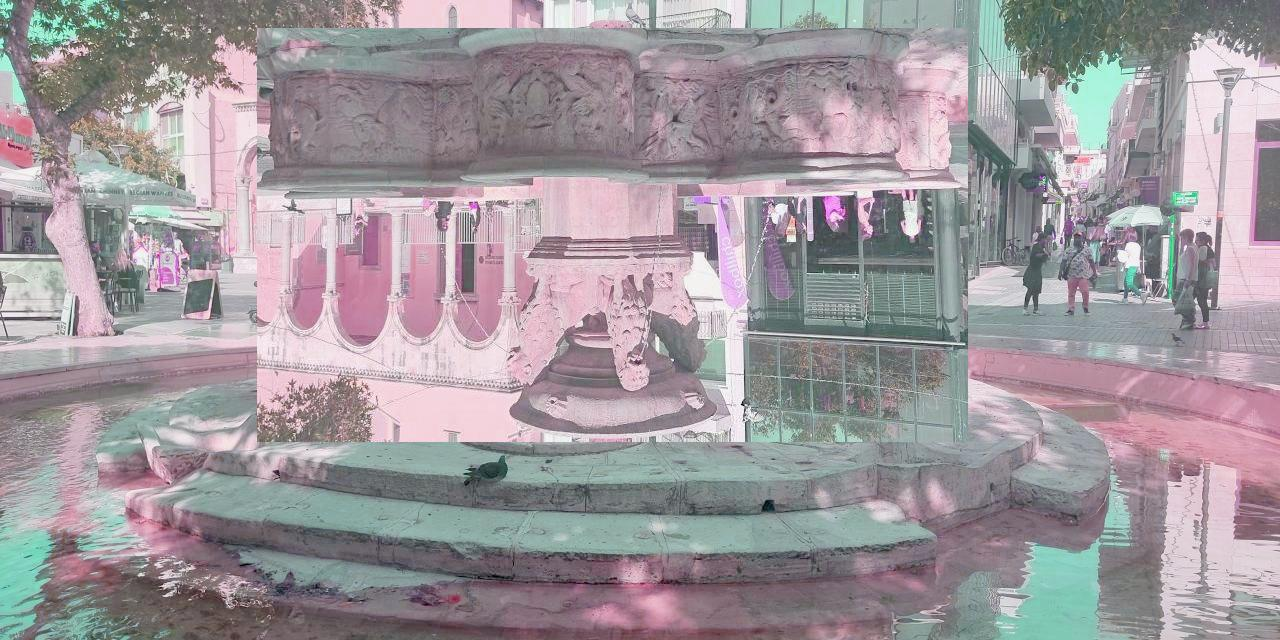Liontaria: (258, 29, 969, 443)
